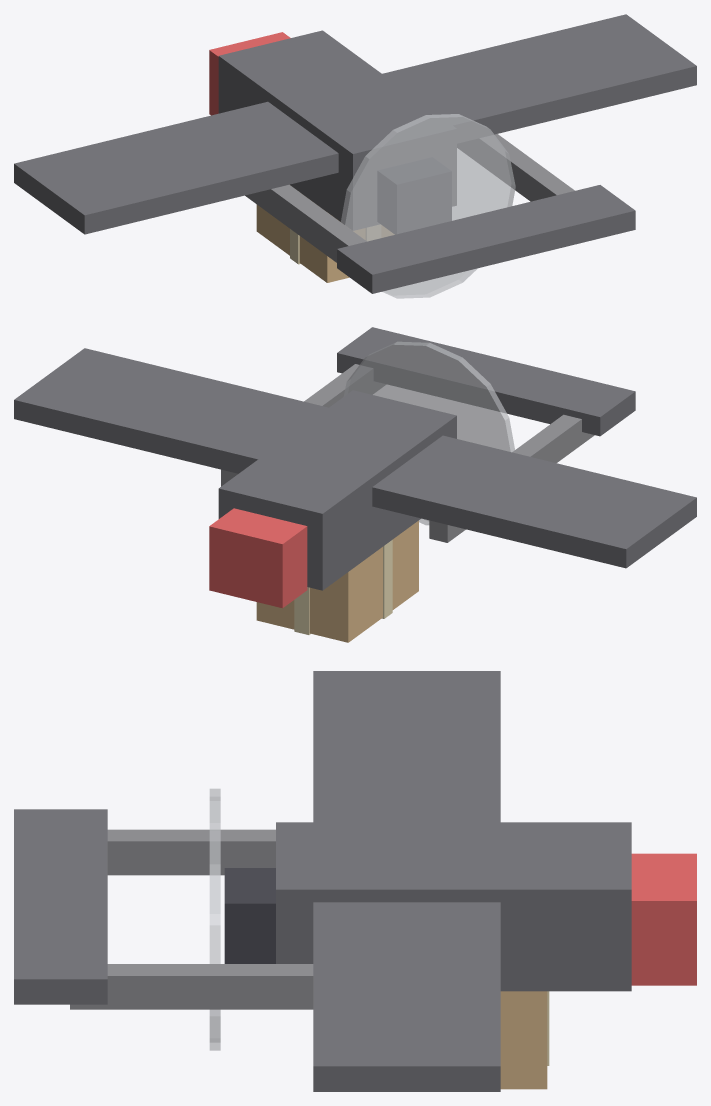
Rendered from fixedwing.gltf.
3 renders of one model, top to bottom at view 1: azimuth 30°, elevation 25°; view 2: azimuth 150°, elevation 25°; view 3: azimuth 270°, elevation 25°, orthographic. The views are drawn at different scales.
Parts seen in each view (by area): view 1: FixedWing; view 2: FixedWing; view 3: FixedWing.
Part boxes in pixels (x1,y1,x2,y2): FixedWing: (14, 14, 696, 298); FixedWing: (14, 327, 696, 642); FixedWing: (14, 671, 696, 1091).
Size of the model in its own units: 1 by 0.307 by 0.73.
